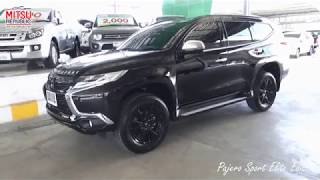pickup: (42, 14, 291, 153)
